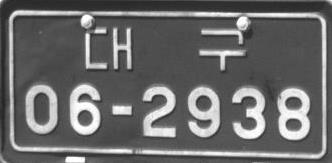0: (25, 82, 57, 135)
2: (142, 84, 176, 138)
3: (232, 86, 266, 139)
6: (68, 83, 101, 136)
8: (276, 86, 311, 142)
9: (187, 86, 222, 137)
대구_D: (85, 26, 245, 71)
